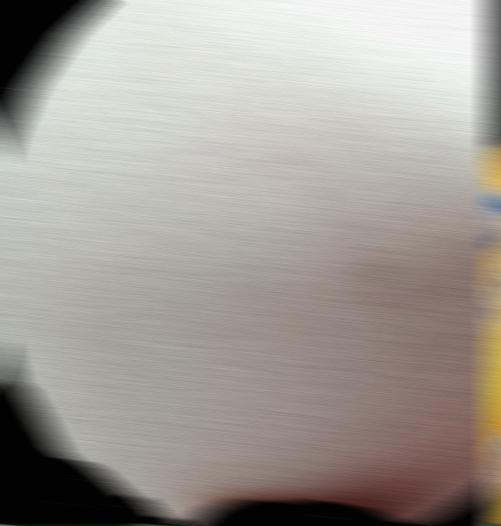Datu puti Suka: (0, 524, 350, 526), (489, 524, 501, 526)
egg: (0, 0, 501, 526)
hansel: (489, 87, 501, 526)
